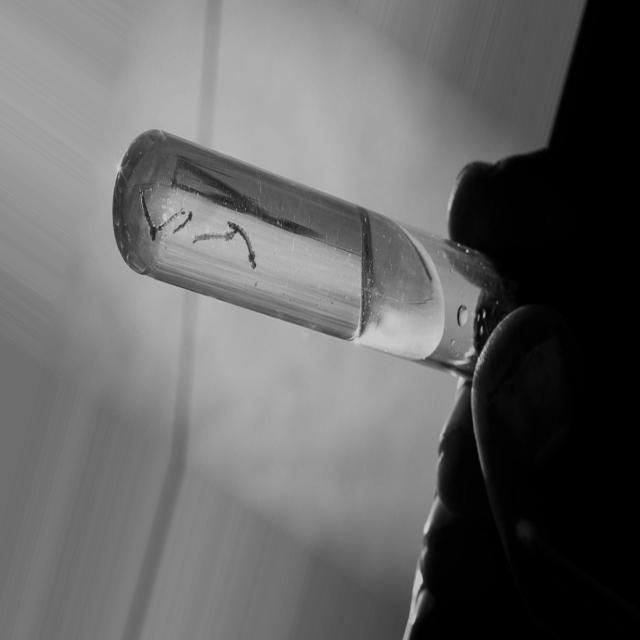larvas: (230, 222, 256, 267), (141, 186, 156, 240), (192, 228, 234, 244), (159, 205, 182, 232), (174, 210, 192, 231)
